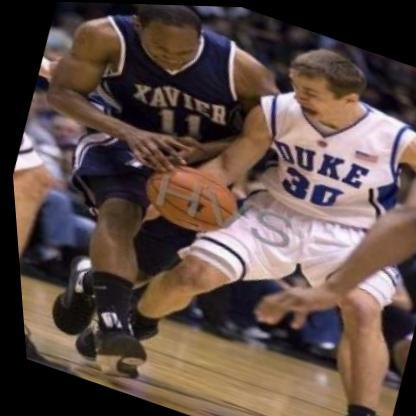basketball: (137, 150, 238, 239)
